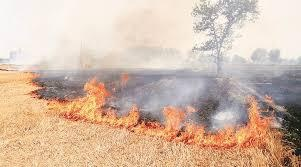fire: (135, 97, 299, 150), (29, 71, 134, 126), (25, 69, 44, 95)
